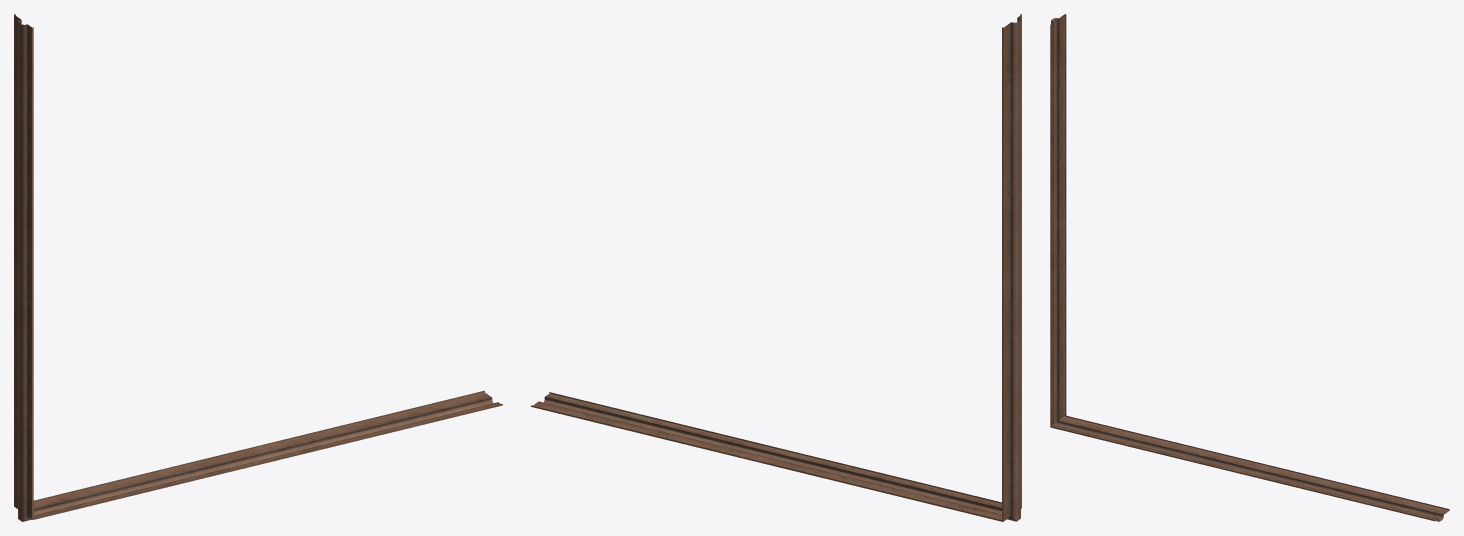
The model's file is cornice_standard_corner_large_01.gltf.
The picture shows the model from 3 angles, left to right: view 1: azimuth 30°, elevation 25°; view 2: azimuth 150°, elevation 25°; view 3: azimuth 330°, elevation 25°; orthographic projection. The views are drawn at different scales.
Visible parts, largest first — view 1: cornice_standard_corner_large_01; view 2: cornice_standard_corner_large_01; view 3: cornice_standard_corner_large_01.
Part boxes in pixels (<box>): cornice_standard_corner_large_01: <box>14,14,502,521</box>; cornice_standard_corner_large_01: <box>531,14,1021,521</box>; cornice_standard_corner_large_01: <box>1050,14,1449,521</box>.
Bounding box in the file's own units: 3.04 × 3.04 × 0.2.
Materials: 1 (1 with a texture image).
